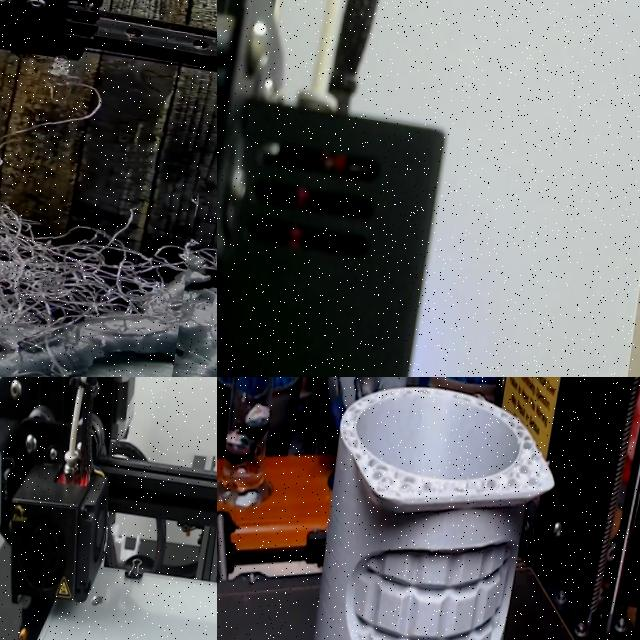spaghetti: (0, 85, 202, 377)
